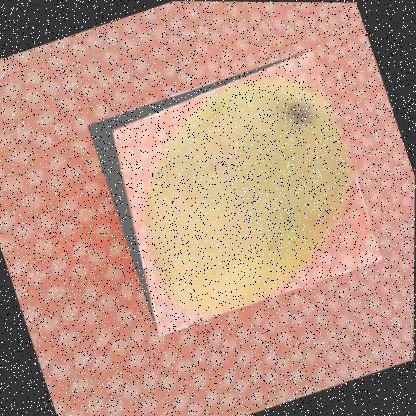mango: (84, 48, 384, 337)
